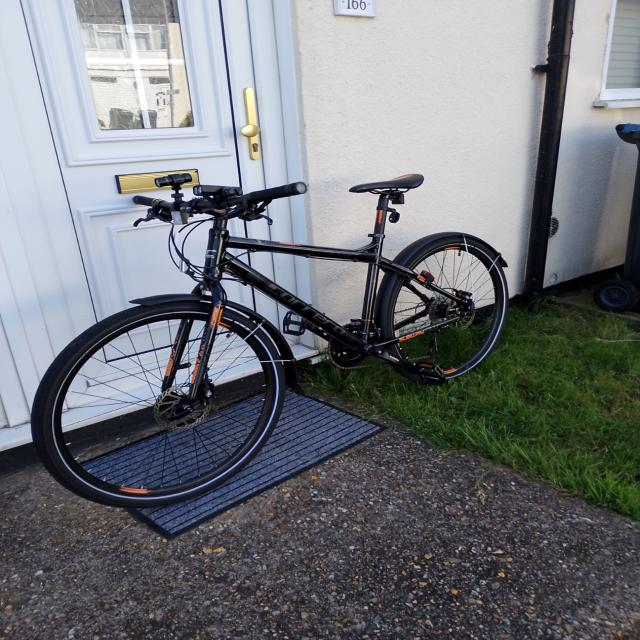bicycle: (29, 170, 519, 508)
